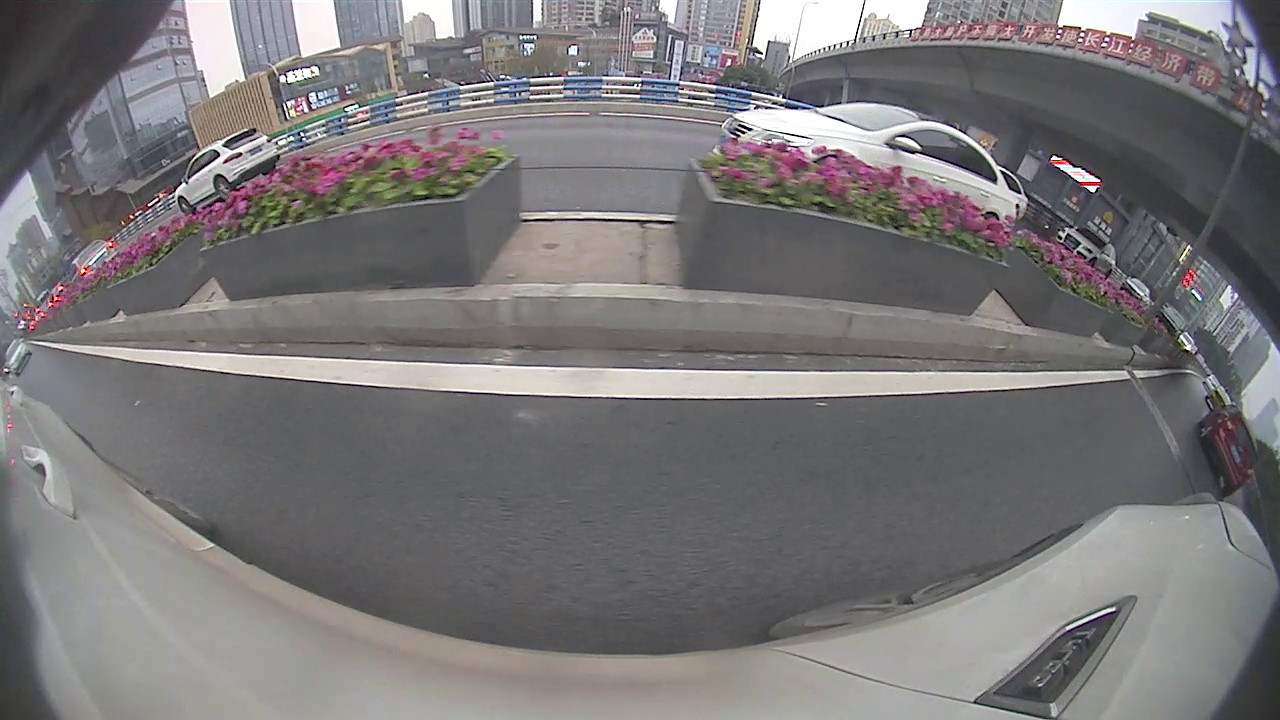car: (720, 102, 1007, 219), (1198, 407, 1260, 497), (2, 339, 32, 377), (1206, 385, 1230, 406)
front: (178, 197, 196, 215)
rear: (215, 176, 232, 195)
